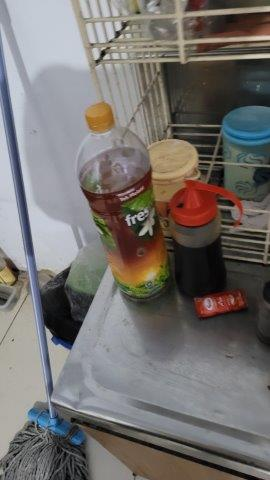botolplastik: (76, 102, 171, 303)
